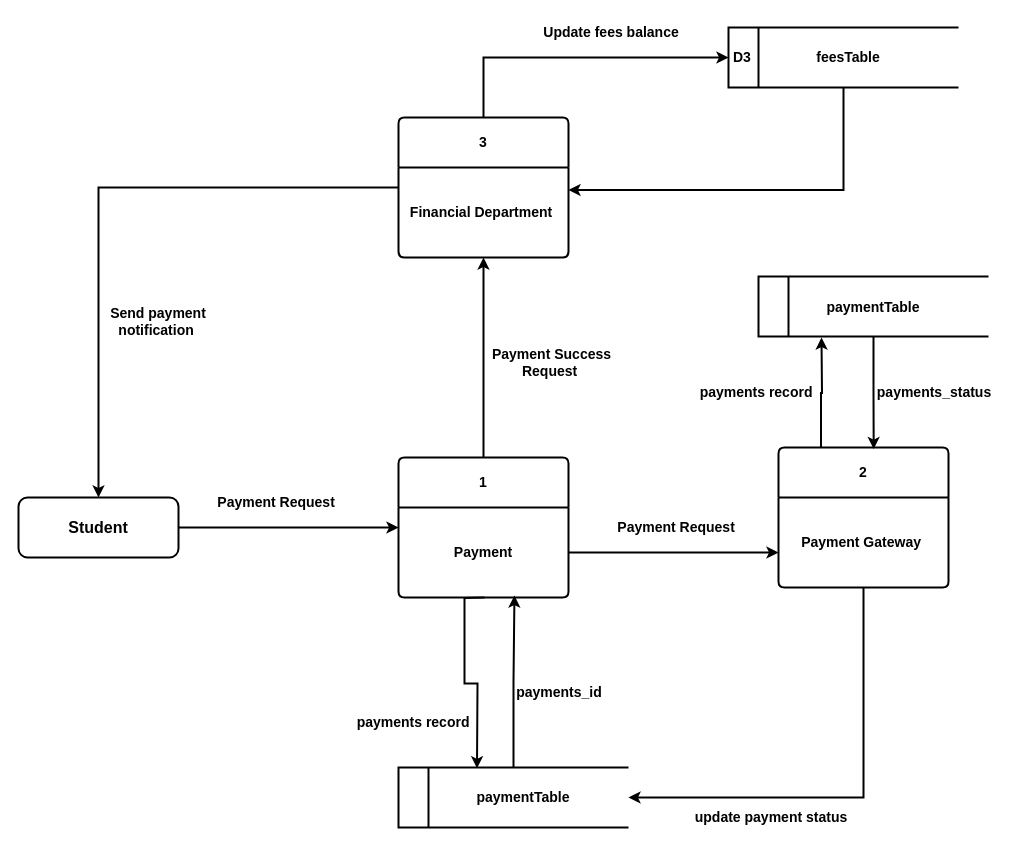
Image size: 1021x849. Some labels were removed from this diagram. Each missing label, with the box of its shape:
D1: (397, 766, 629, 828)
D2: (757, 275, 989, 337)
